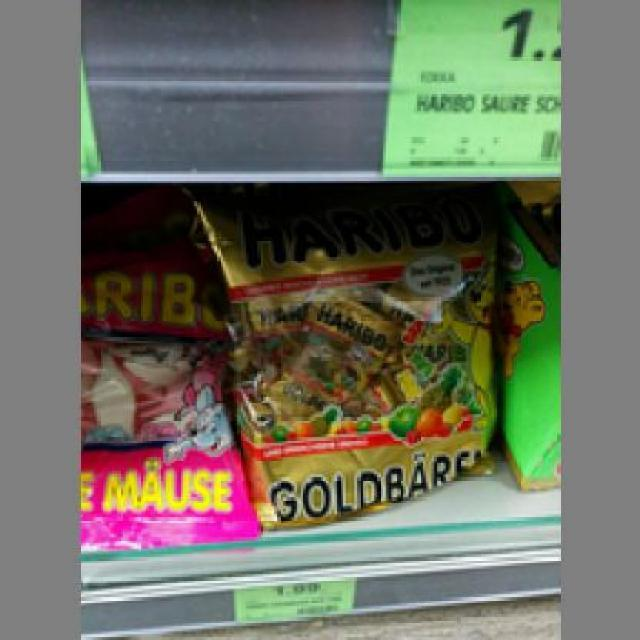Candy: (197, 200, 500, 523), (77, 266, 260, 546)
